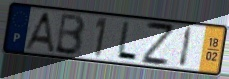1: (94, 17, 108, 60)
A: (22, 11, 56, 54)
B: (53, 12, 87, 57)
I: (177, 25, 194, 70)
L: (115, 20, 139, 63)
Z: (140, 19, 175, 67)
